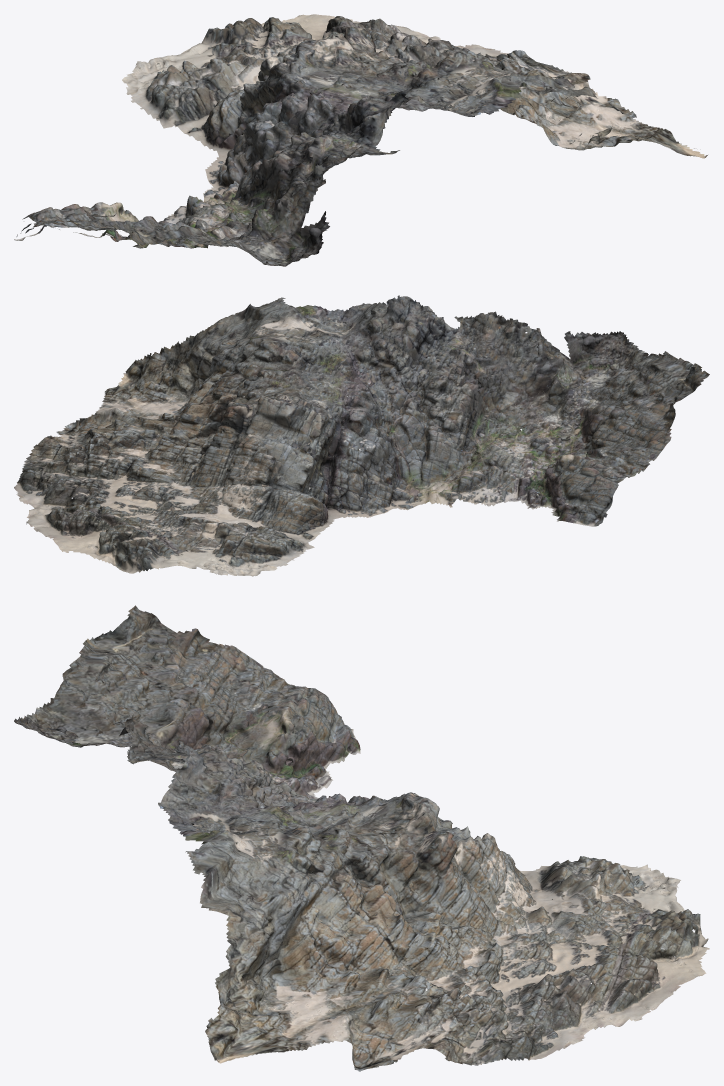
The model's file is rock_salines_2.glb.
The picture shows the model from 3 angles, top to bottom: view 1: azimuth 30°, elevation 25°; view 2: azimuth 150°, elevation 25°; view 3: azimuth 270°, elevation 25°; orthographic projection. The views are drawn at different scales.
Visible parts, largest first — view 1: salines_rock_square_0; view 2: salines_rock_square_0; view 3: salines_rock_square_0.
Part boxes in pixels (bbox=[...]): salines_rock_square_0: bbox=[14, 14, 707, 266]; salines_rock_square_0: bbox=[14, 295, 709, 576]; salines_rock_square_0: bbox=[14, 605, 709, 1071].
Size of the model in its own units: 4.74 by 1.16 by 4.28.
1 material, 1 textured.
